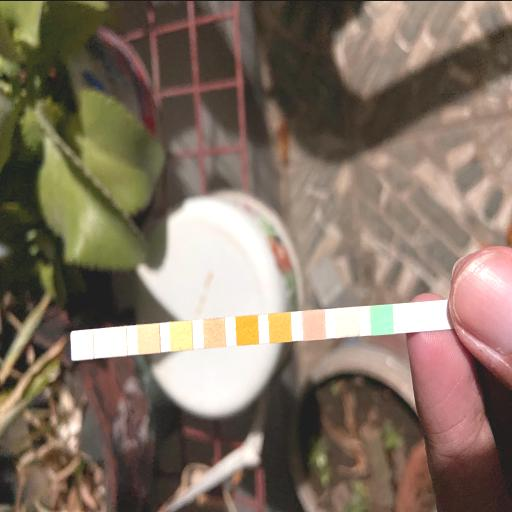Bilirubin: (337, 307, 359, 335)
Blood: (236, 316, 258, 342)
Glucose: (372, 304, 392, 332)
Ketone: (304, 311, 324, 337)
Leukocytes: (71, 331, 93, 357)
Nitrite: (106, 326, 126, 354)
Protein: (172, 321, 192, 347)
SpGravity: (269, 312, 291, 340)
Urobilinogen: (138, 325, 160, 351)
pH: (204, 318, 224, 344)
strip: (71, 299, 448, 360)
